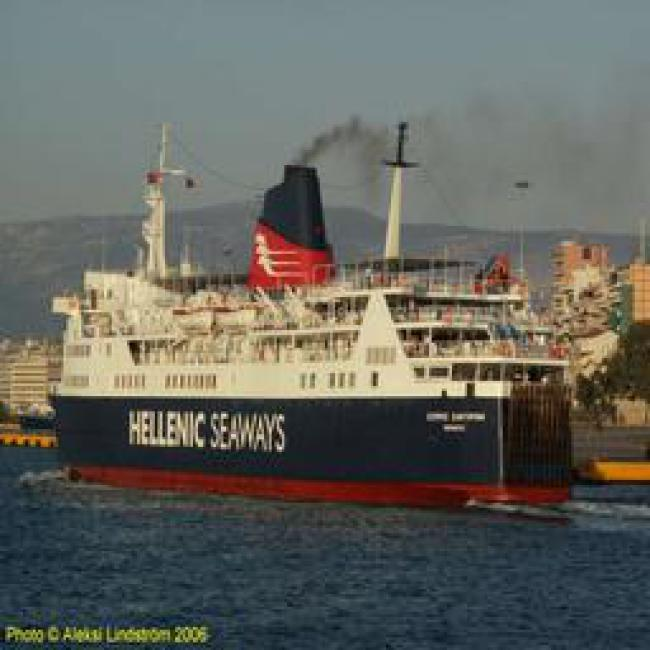Ship: (46, 282, 586, 514)
